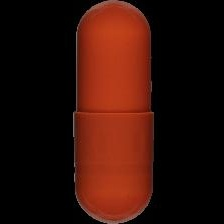62756-147: (0, 0, 224, 224)
